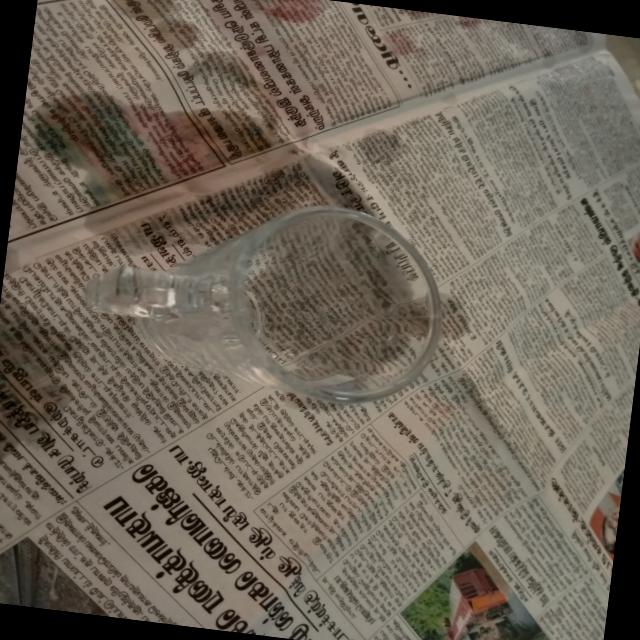glass-VX4N: (82, 171, 448, 412)
